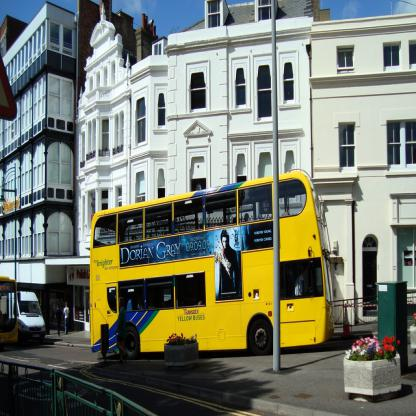Bus: (89, 167, 338, 356), (0, 274, 18, 346)
